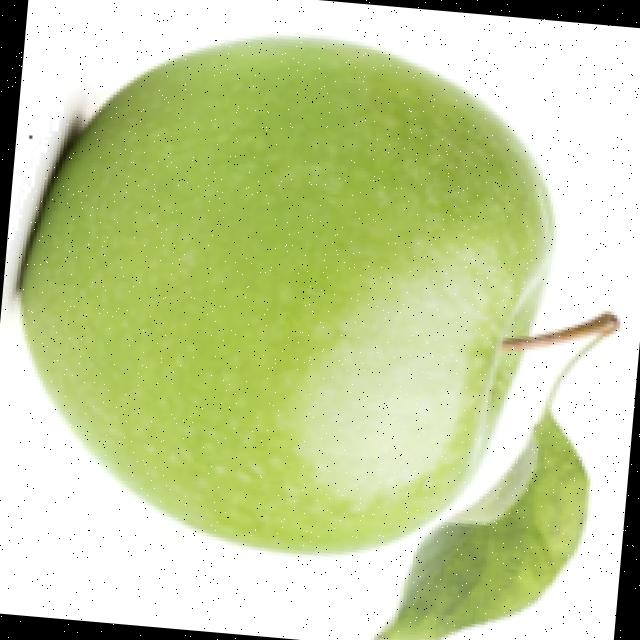apple: (2, 31, 625, 640)
